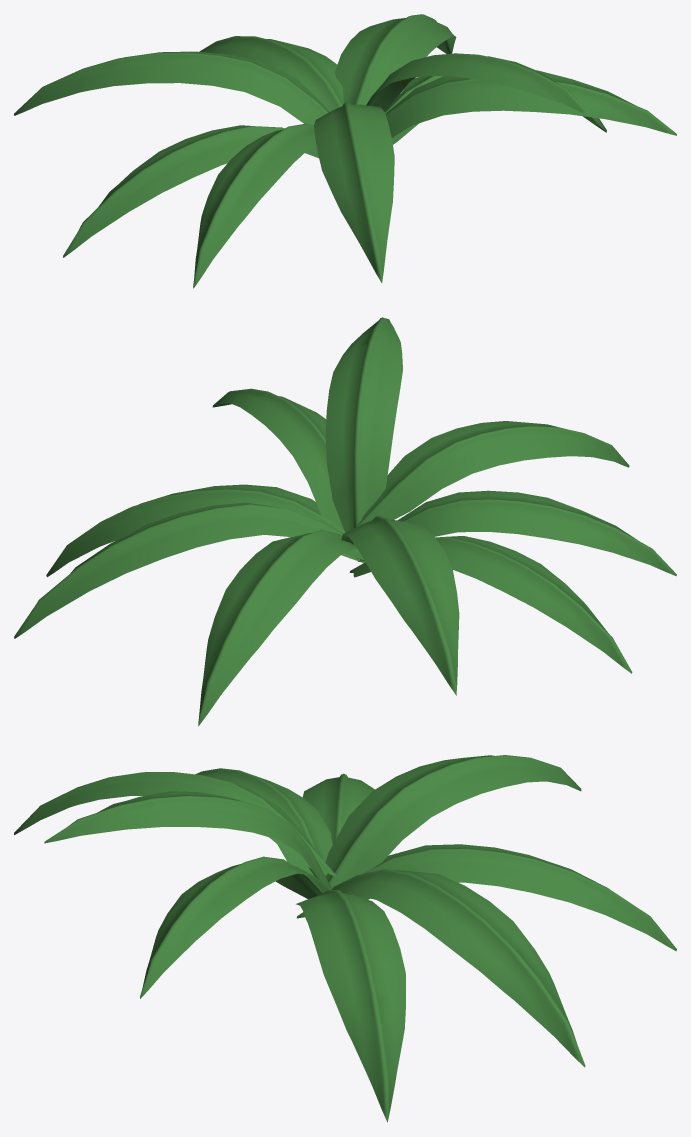
Rendered from Leaf_Plant.fbx.
The picture shows the model from 3 angles, top to bottom: view 1: azimuth 30°, elevation 25°; view 2: azimuth 150°, elevation 25°; view 3: azimuth 270°, elevation 25°; orthographic projection. The views are drawn at different scales.
Parts seen in each view (by area): view 1: Leaf_Plant; view 2: Leaf_Plant; view 3: Leaf_Plant.
Part boxes in pixels (box(x1,y1,x2,y2)): Leaf_Plant: box(14, 14, 676, 288); Leaf_Plant: box(14, 317, 676, 726); Leaf_Plant: box(14, 755, 676, 1122).
Size of the model in its own units: 397 by 138 by 385.
